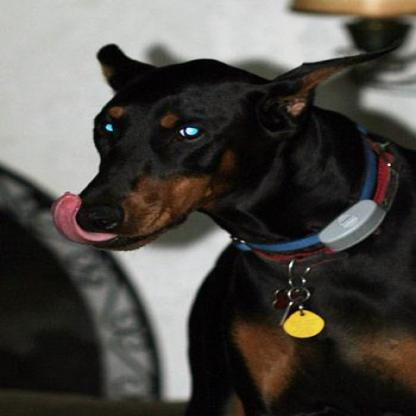Doberman: (49, 40, 411, 410)
